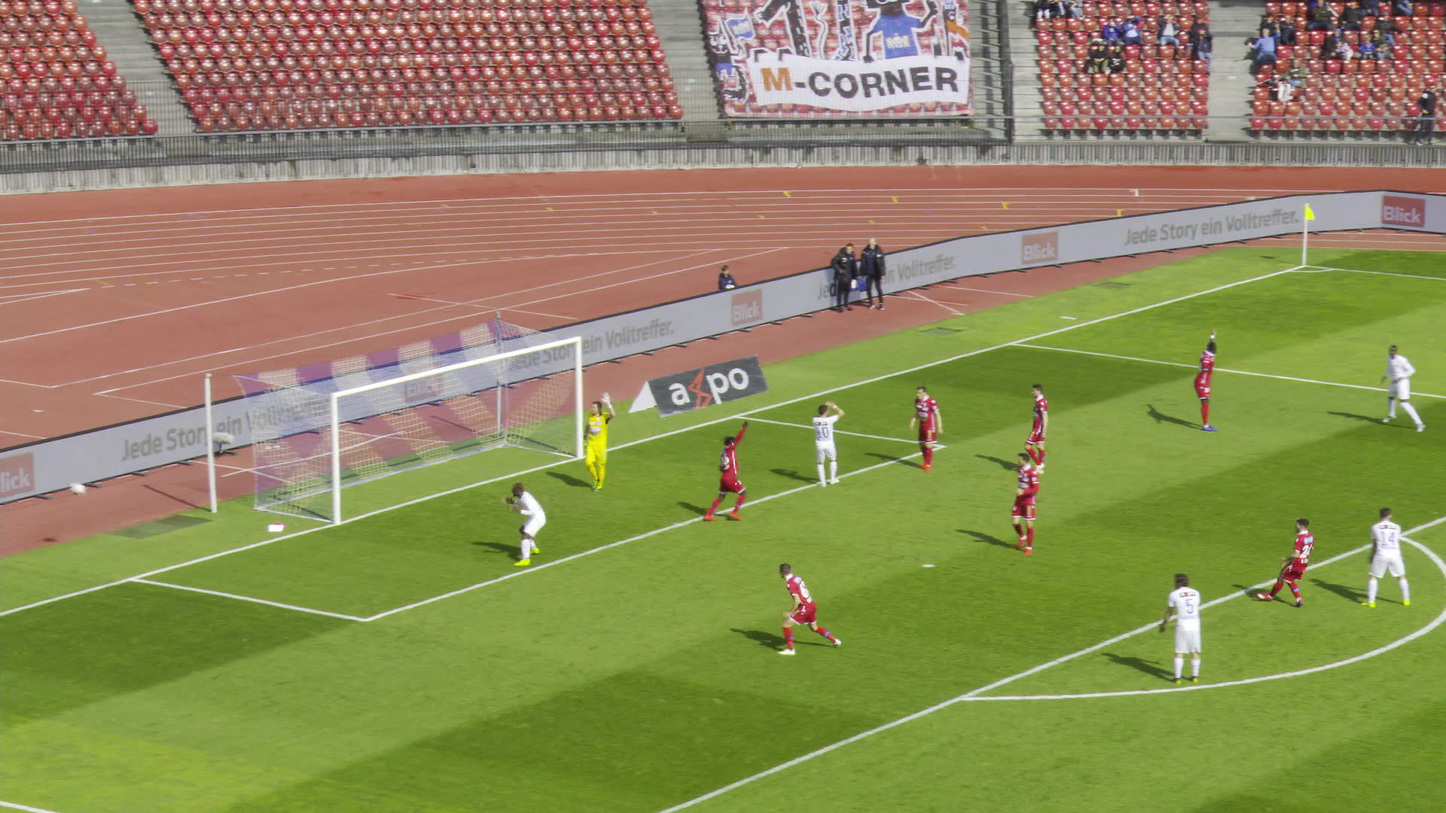ball: (71, 483, 84, 495)
player: (772, 553, 824, 651), (700, 432, 755, 523), (1353, 507, 1402, 608), (1150, 573, 1194, 685), (1002, 385, 1048, 476), (1271, 514, 1314, 609), (565, 402, 609, 492), (1178, 334, 1218, 431), (505, 474, 540, 565), (999, 452, 1029, 556), (1363, 338, 1396, 427), (801, 399, 833, 489), (900, 386, 931, 470)
